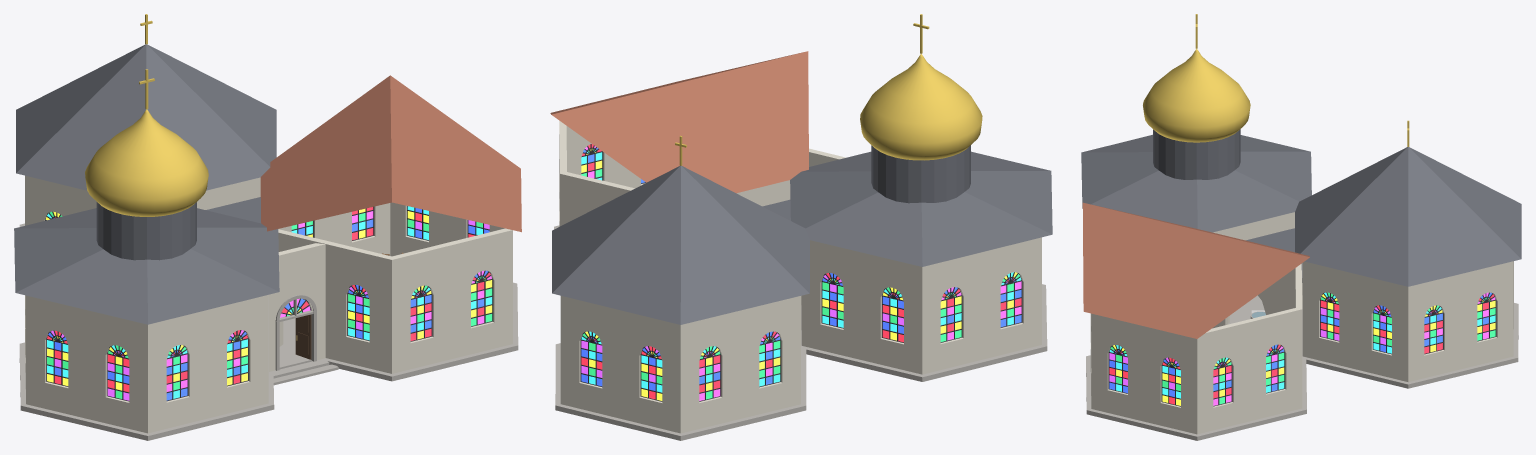
The model's file is churchv-stained.glb.
3 views of the same model, side by side, from view 1: azimuth 30°, elevation 25°; view 2: azimuth 150°, elevation 25°; view 3: azimuth 270°, elevation 25° (orthographic). The views are drawn at different scales.
Parts seen in each view (by area): view 1: Roof_ang, Roof_orth, Walls_anglican, Walls_orthodox, Roof_rom, Dome, Floor, Lead_cames, Frontwall, Walls_roman, StainedGlass_teal, StainedGlass_cobalt (+7 smaller); view 2: Roof_rom, Roof_orth, Roof_ang, Walls_roman, Walls_orthodox, Dome, Floor, Walls_anglican, Lead_cames, StainedGlass_teal, StainedGlass_cobalt, StainedGlass_violet (+3 smaller); view 3: Roof_rom, Walls_anglican, Roof_ang, Roof_orth, Walls_roman, Dome, Floor, Lead_cames, Walls_orthodox, StainedGlass_emerald, StainedGlass_violet, StainedGlass_ruby (+4 smaller).
Part boxes in pixels (bbox=[...]): Roof_ang: bbox=[260, 75, 521, 232]; Roof_orth: bbox=[14, 202, 279, 324]; Walls_anglican: bbox=[278, 202, 512, 373]; Walls_orthodox: bbox=[25, 295, 268, 433]; Roof_rom: bbox=[16, 44, 276, 190]; Dome: bbox=[85, 109, 208, 216]; Floor: bbox=[19, 223, 518, 440]; Lead_cames: bbox=[45, 206, 492, 401]; Frontwall: bbox=[269, 243, 325, 371]; Walls_roman: bbox=[25, 175, 260, 225]; StainedGlass_teal: bbox=[47, 206, 492, 398]; StainedGlass_cobalt: bbox=[48, 208, 489, 400]; Roof_rom: bbox=[552, 165, 809, 324]; Roof_orth: bbox=[790, 145, 1052, 266]; Roof_ang: bbox=[550, 51, 808, 193]; Walls_roman: bbox=[560, 296, 800, 433]; Walls_orthodox: bbox=[801, 237, 1041, 374]; Dome: bbox=[860, 54, 982, 160]; Floor: bbox=[554, 225, 1047, 440]; Walls_anglican: bbox=[559, 121, 790, 226]; Lead_cames: bbox=[580, 144, 1022, 401]; StainedGlass_teal: bbox=[581, 150, 1021, 392]; StainedGlass_cobalt: bbox=[581, 147, 1021, 390]; StainedGlass_violet: bbox=[581, 146, 1021, 400]; Roof_rom: bbox=[1295, 147, 1521, 286]; Walls_anglican: bbox=[1090, 264, 1302, 434]; Roof_ang: bbox=[1082, 202, 1309, 338]; Roof_orth: bbox=[1081, 129, 1311, 232]; Walls_roman: bbox=[1302, 261, 1513, 381]; Dome: bbox=[1143, 48, 1250, 142]; Floor: bbox=[1086, 295, 1518, 440]; Lead_cames: bbox=[1108, 292, 1496, 406]; Walls_orthodox: bbox=[1213, 212, 1302, 322]; StainedGlass_emerald: bbox=[1110, 292, 1495, 404]; StainedGlass_violet: bbox=[1109, 292, 1495, 405]; StainedGlass_ruby: bbox=[1109, 294, 1494, 404].
Size of what is drawn, in the model's own units: 32.55 by 19.7 by 28.18.
